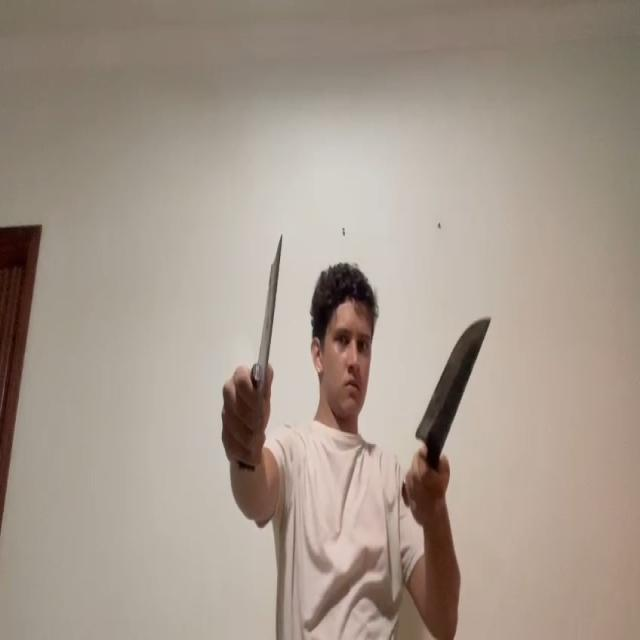knife: (415, 317, 492, 444), (254, 232, 284, 403)
